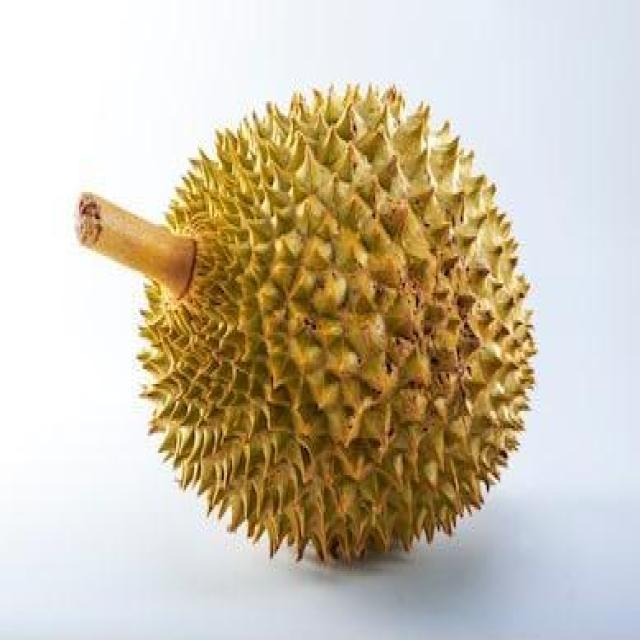mature: (140, 88, 535, 559)
